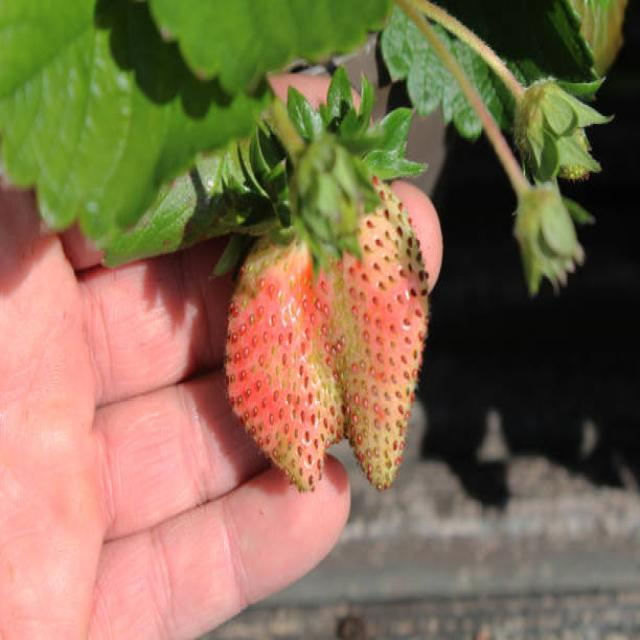Healthy Fruit: (225, 175, 431, 493)
